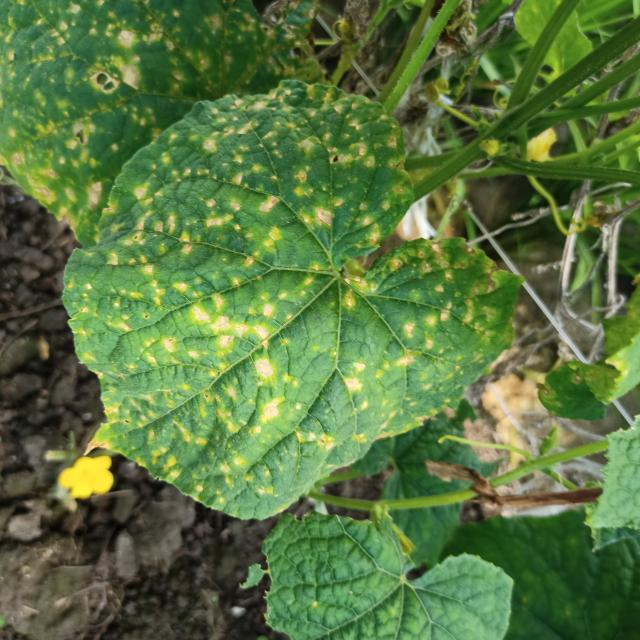disease_cucumber: (66, 78, 503, 496), (2, 0, 309, 234)
